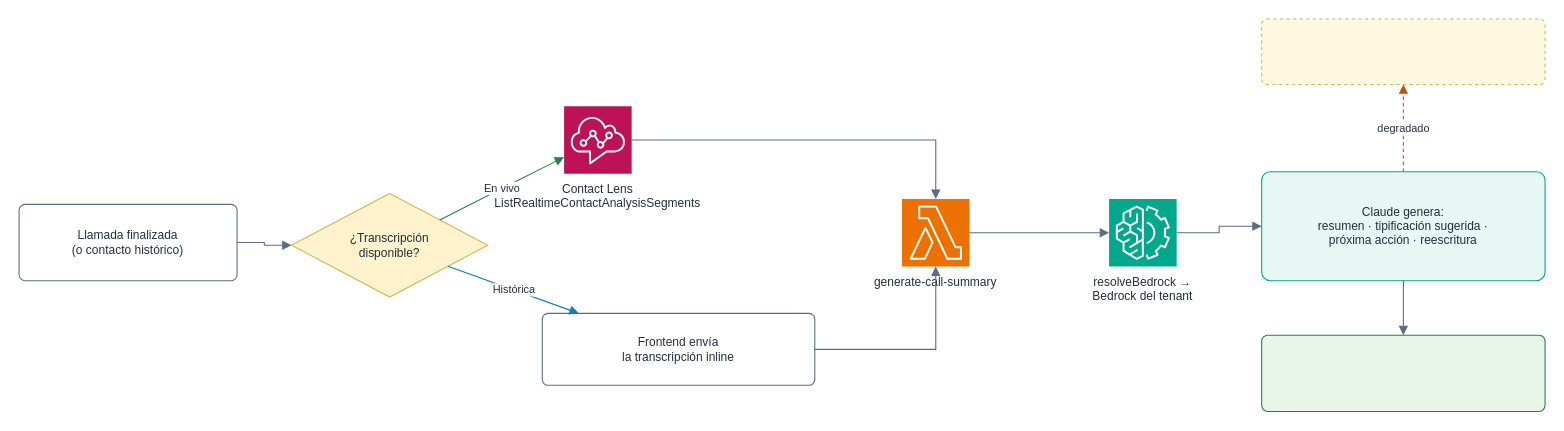
Some shapes in this 1564 by 431 pixel diagram are drawn without their labels. Each missing label, with the centre of its shape:
Agente ve la sugerencia (panel wrap-up / copiloto): (1403,372)
Si falla: mensaje suave, el agente redacta manual: (1403,51)
